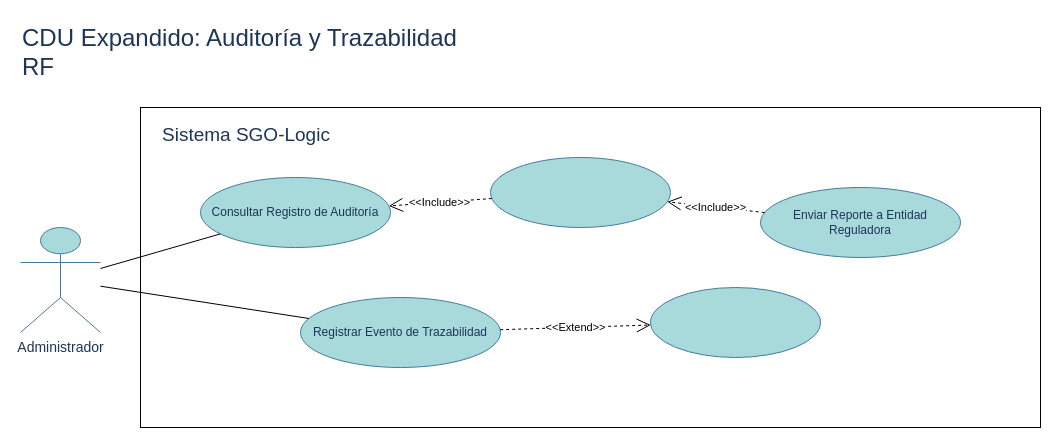
The diagram is 1058 pixels wide and 445 high, and some of its shapes have lost their labels. Here are the shapes that lost their labels. From the top down, the box of each, then its label:
(490, 156, 670, 228): Generar Reporte Fiscal
(650, 286, 820, 358): Notificar Anomalía
